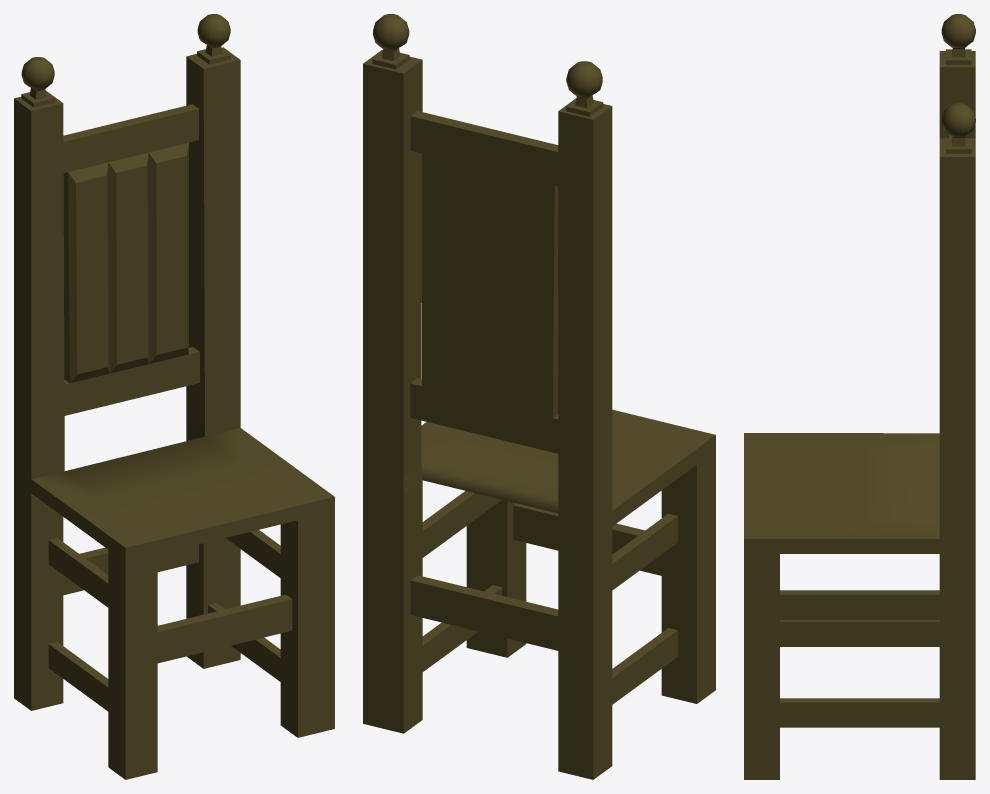
File: Chair_C.fbx
The picture shows the model from 3 angles, left to right: view 1: azimuth 30°, elevation 25°; view 2: azimuth 150°, elevation 25°; view 3: azimuth 270°, elevation 25°; orthographic projection. The views are drawn at different scales.
Parts seen in each view (by area): view 1: Chair_C; view 2: Chair_C; view 3: Chair_C.
Part boxes in pixels (x1=…): Chair_C: x1=14, y1=14, x2=334, y2=779; Chair_C: x1=363, y1=14, x2=715, y2=779; Chair_C: x1=744, y1=14, x2=975, y2=779.
Bounding box in the file's own units: 1.01 × 2.96 × 0.9326.
